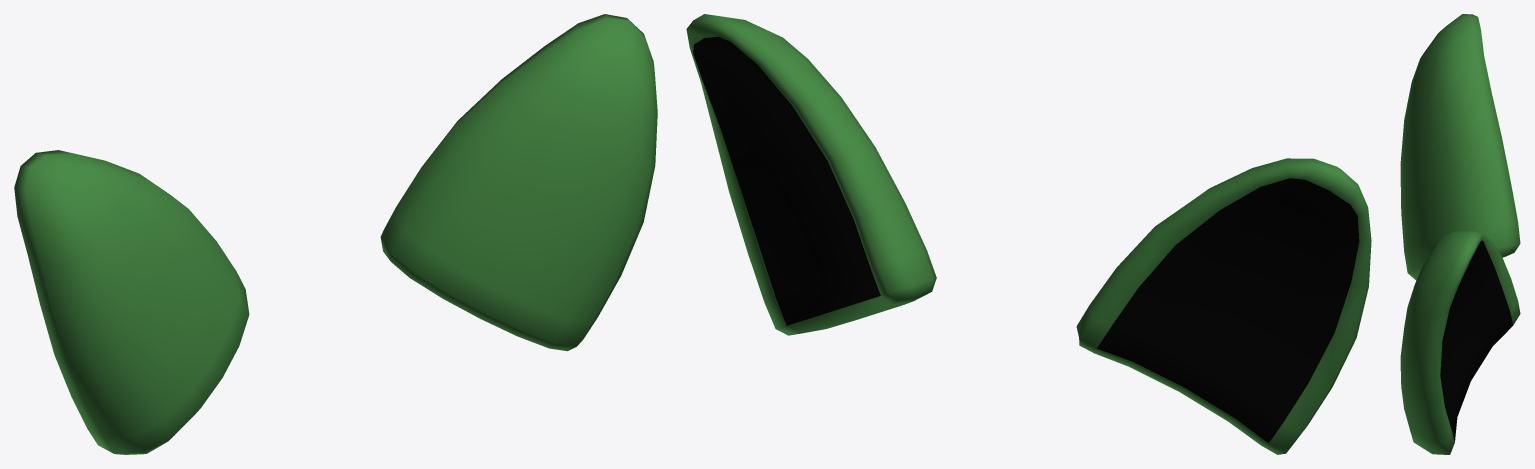
File: cat_ears.fbx
The picture shows the model from 3 angles, left to right: view 1: azimuth 30°, elevation 25°; view 2: azimuth 150°, elevation 25°; view 3: azimuth 270°, elevation 25°; orthographic projection. The views are drawn at different scales.
Visible parts, largest first — view 1: ears.002; view 2: ears.002; view 3: ears.002.
Part boxes in pixels (x1,y1,x2,y2): ears.002: (14,14,657,454); ears.002: (686,14,1371,454); ears.002: (1400,14,1520,454).
Bounding box in the file's own units: 157 × 70.46 × 32.09.
